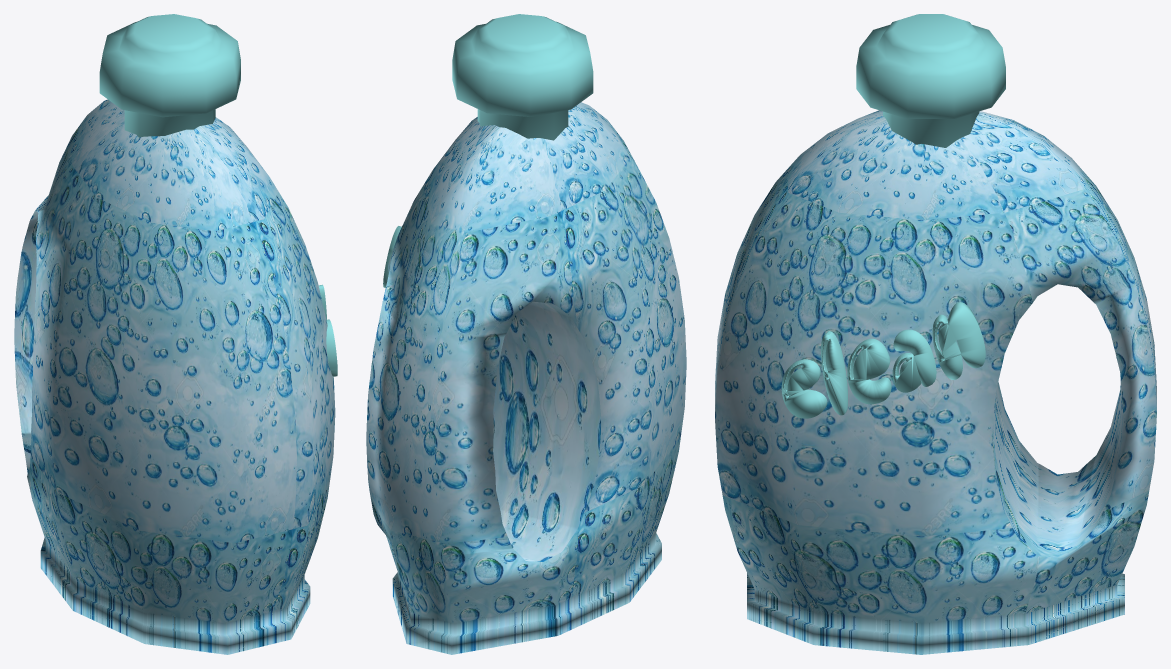
Rendered from detergent.fbx.
3 renders of one model, left to right at view 1: azimuth 30°, elevation 25°; view 2: azimuth 150°, elevation 25°; view 3: azimuth 270°, elevation 25°, orthographic. The views are drawn at different scales.
Visible parts, largest first — view 1: pSphere12; view 2: pSphere12; view 3: pSphere12.
Part boxes in pixels (<box>): pSphere12: <box>14,14,337,654</box>; pSphere12: <box>366,14,686,654</box>; pSphere12: <box>715,14,1156,654</box>.
Bounding box in the file's own units: 9.21 × 19.97 × 13.95.
Materials: 2 (1 with a texture image).
